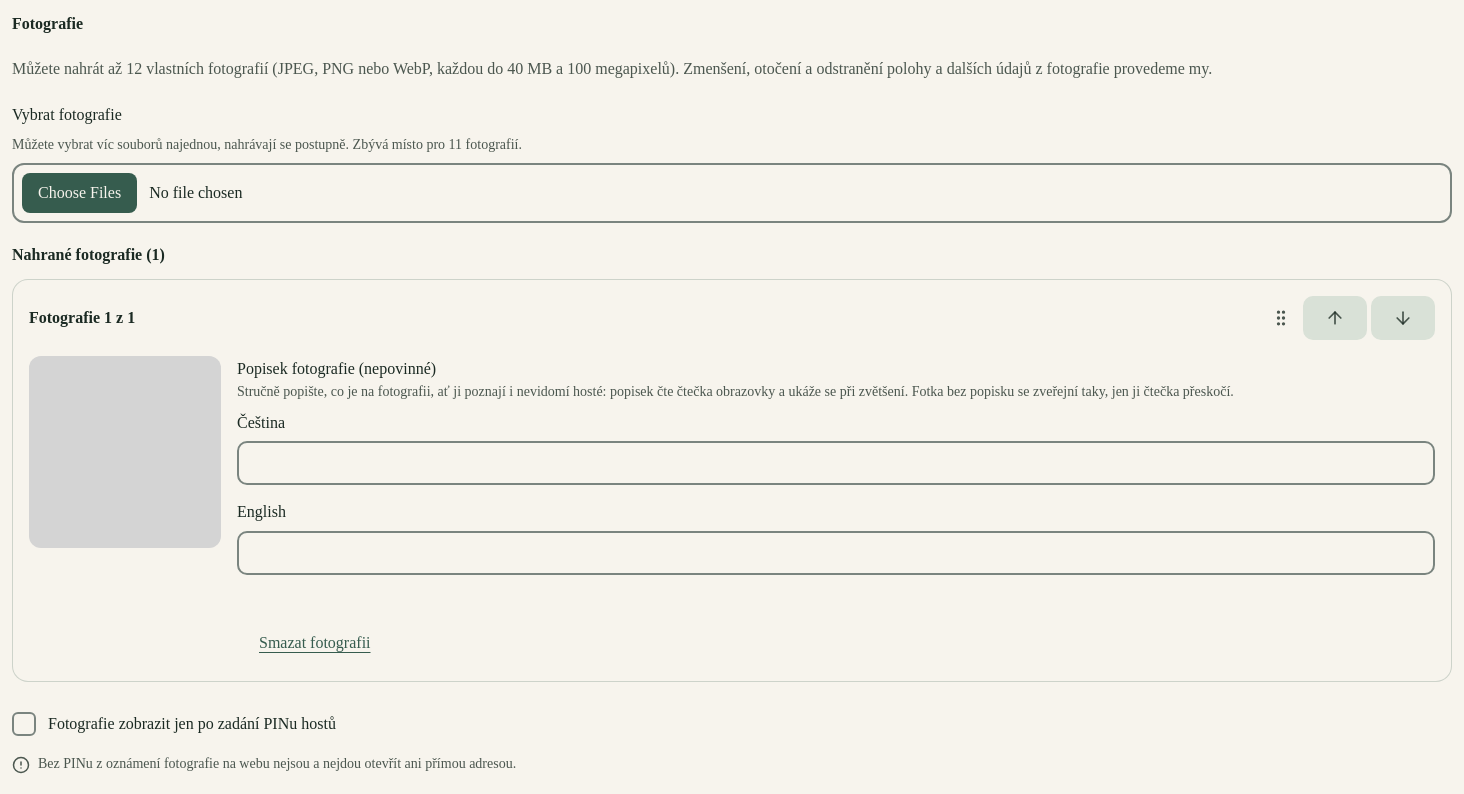
Test: PhotosPanel › popisek se ukládá s krátkým zpožděním, po jazycích; chybějící překlad se hlásí pod polem
This screenshot has width=1464, height=794.
Step 1. Type "Pár" into the field labelled "Čeština" → (836, 463), box [237,441,1435,485]
Wait 700 ms
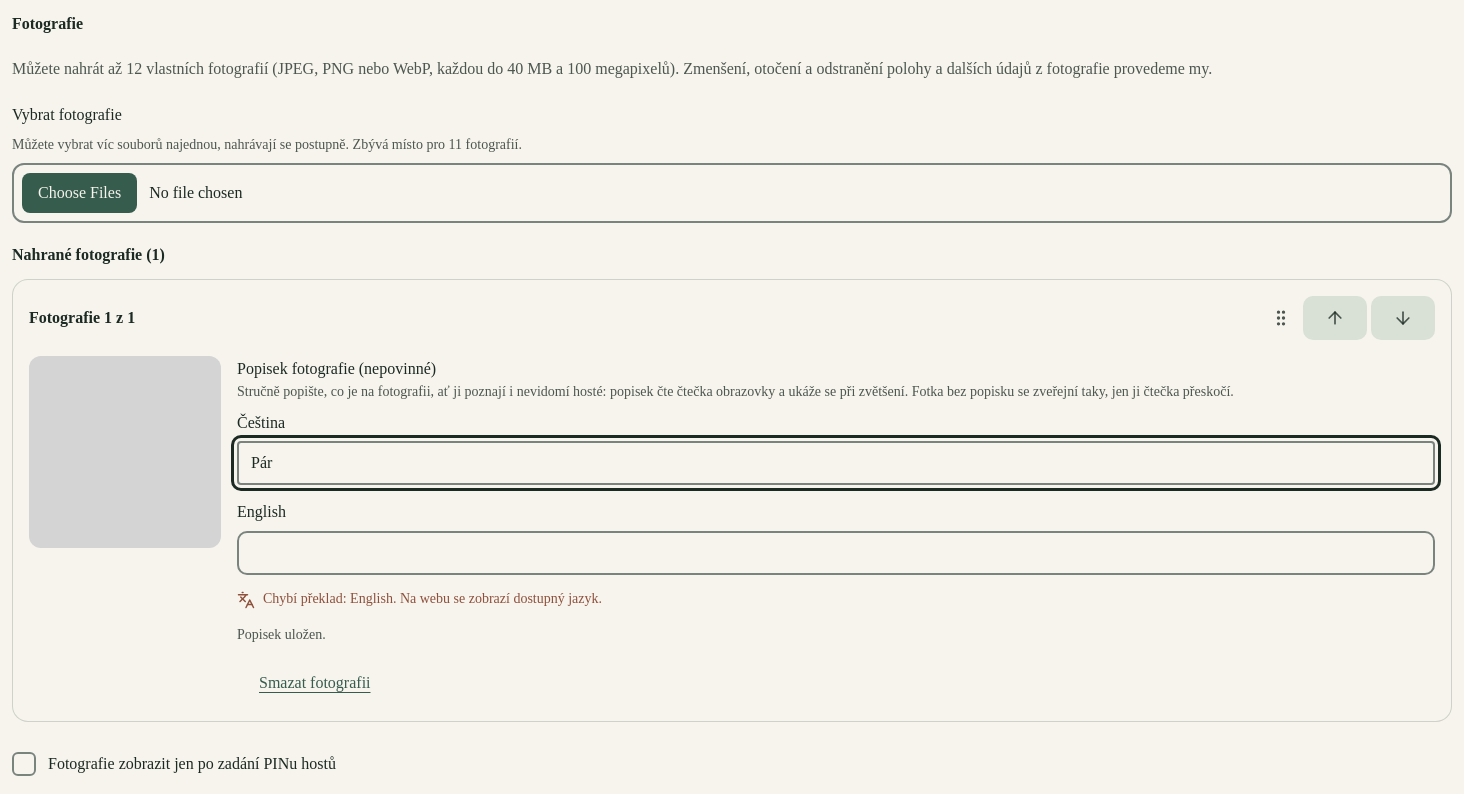
Now the text "Chybí překlad: English. Na webu se zobrazí dostupný jazyk." is shown, box [263,589,602,609]
Step 2. Type "Couple" into the field labelled "English" → (836, 553), box [237,531,1435,575]
Wait 700 ms
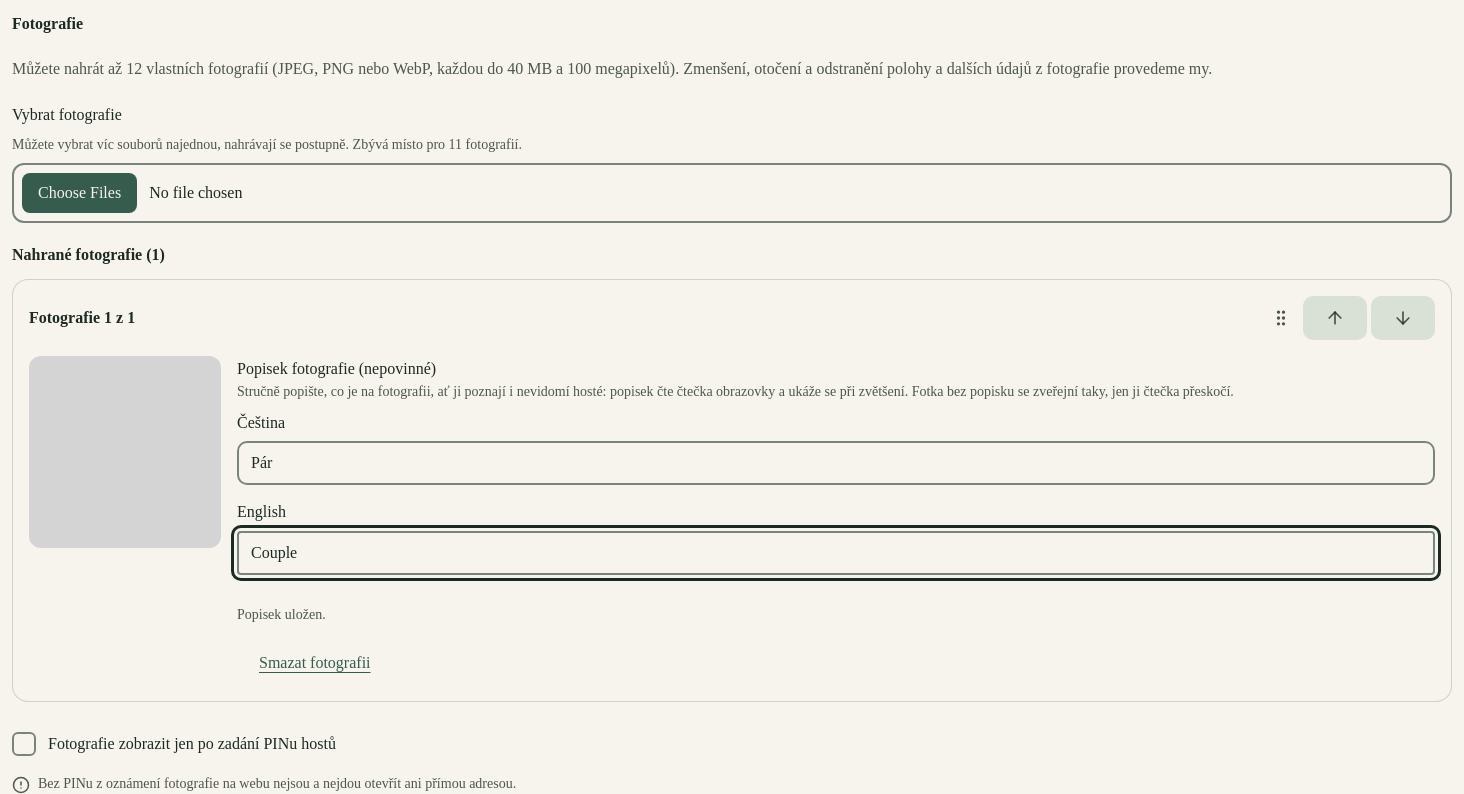
Now the text "Chybí překlad" is gone
